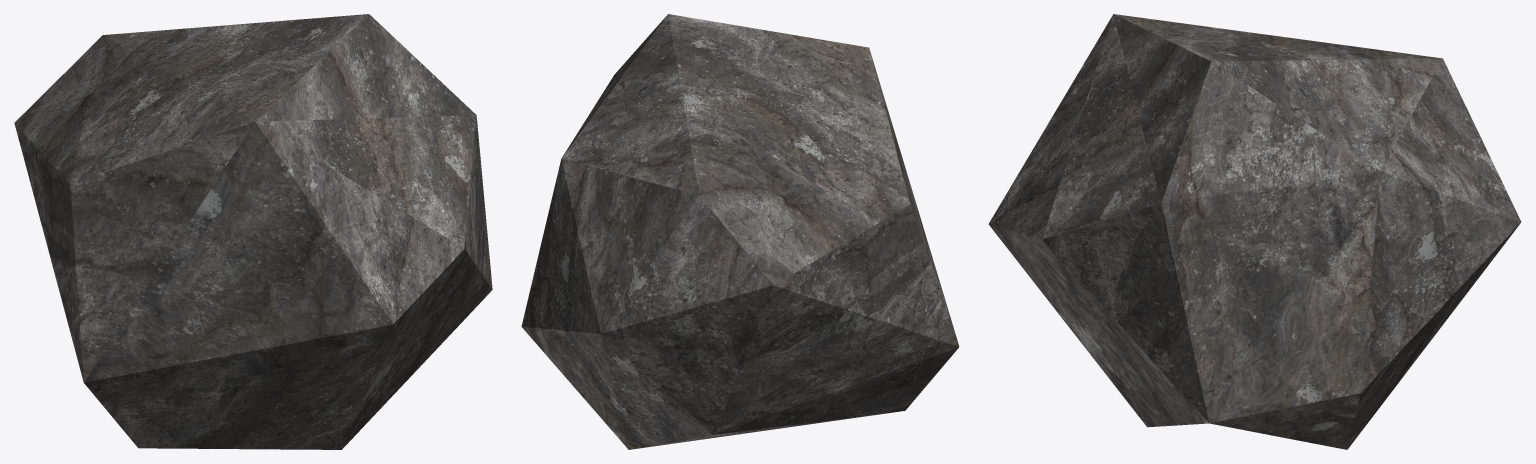
Rendered from LampLight_AltRock_3.FBX.
3 views of the same model, side by side, from view 1: azimuth 30°, elevation 25°; view 2: azimuth 150°, elevation 25°; view 3: azimuth 270°, elevation 25° (orthographic). The views are drawn at different scales.
Visible parts, largest first — view 1: Bg_Rock_6; view 2: Bg_Rock_6; view 3: Bg_Rock_6.
Part boxes in pixels (bbox=[...]): Bg_Rock_6: bbox=[14, 14, 492, 449]; Bg_Rock_6: bbox=[521, 14, 959, 449]; Bg_Rock_6: bbox=[988, 14, 1521, 449].
Size of the model in its own units: 78.38 by 72.28 by 86.97.
